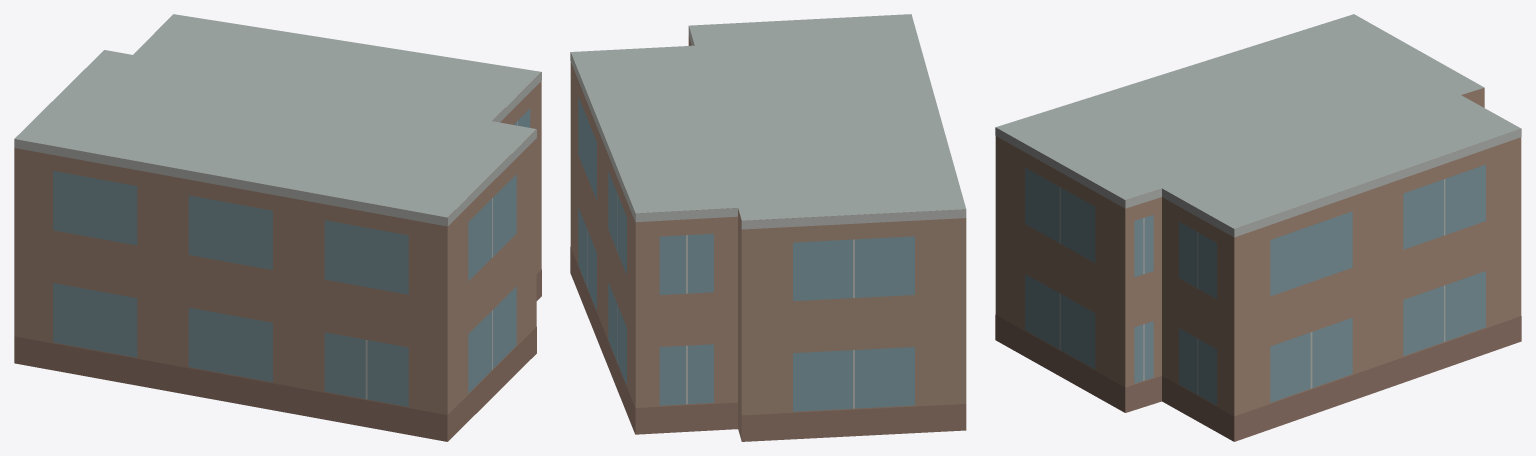
The model's file is survey-upis-32913758.glb.
3 renders of one model, left to right at view 1: azimuth 30°, elevation 25°; view 2: azimuth 150°, elevation 25°; view 3: azimuth 270°, elevation 25°, orthographic. The views are drawn at different scales.
Parts seen in each view (by area): view 1: survey-upis-32913758.tmp; view 2: survey-upis-32913758.tmp; view 3: survey-upis-32913758.tmp.
Part boxes in pixels (left/top/right/bottom): survey-upis-32913758.tmp: left=14, top=14, right=541, bottom=441; survey-upis-32913758.tmp: left=570, top=14, right=966, bottom=441; survey-upis-32913758.tmp: left=995, top=14, right=1521, bottom=441.
Size of the model in its own units: 13.22 by 6.1 by 13.67.
